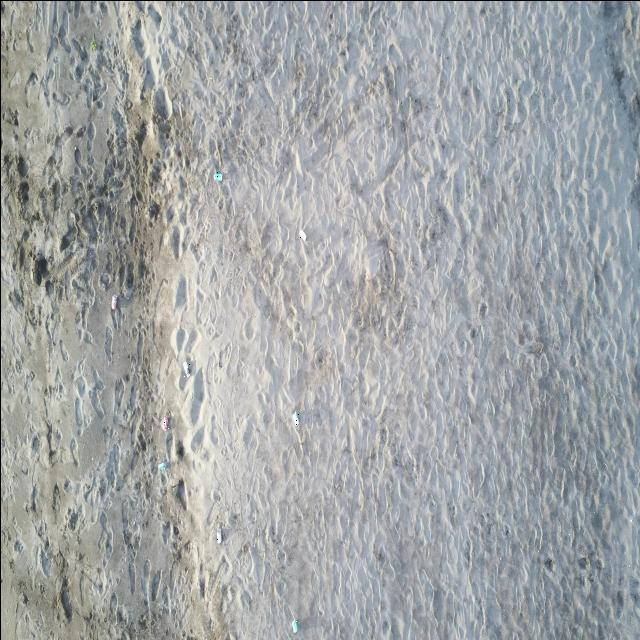Garbage: (160, 415, 169, 431), (292, 411, 299, 427), (183, 360, 190, 376), (89, 36, 96, 51), (292, 619, 299, 632), (111, 293, 116, 310), (299, 228, 306, 240), (158, 462, 167, 471), (216, 527, 221, 543), (213, 171, 220, 180)
